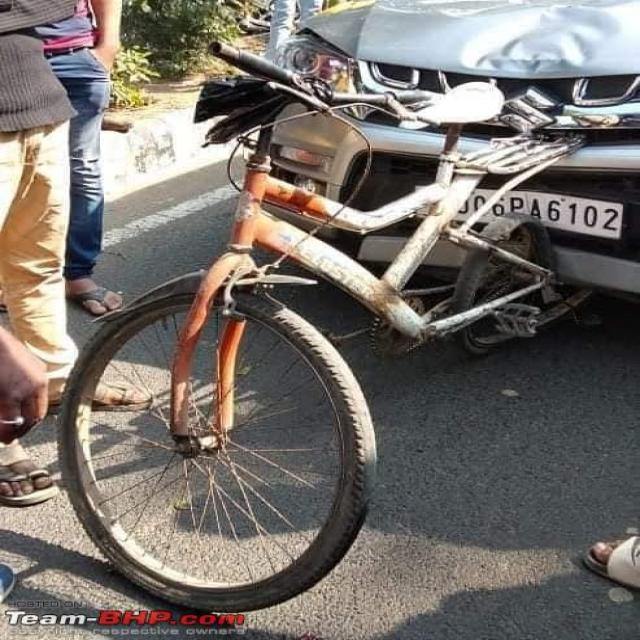accident: (278, 0, 640, 297)
bicycle: (61, 45, 590, 611)
